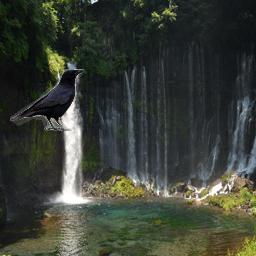Crow: (10, 69, 84, 131)
